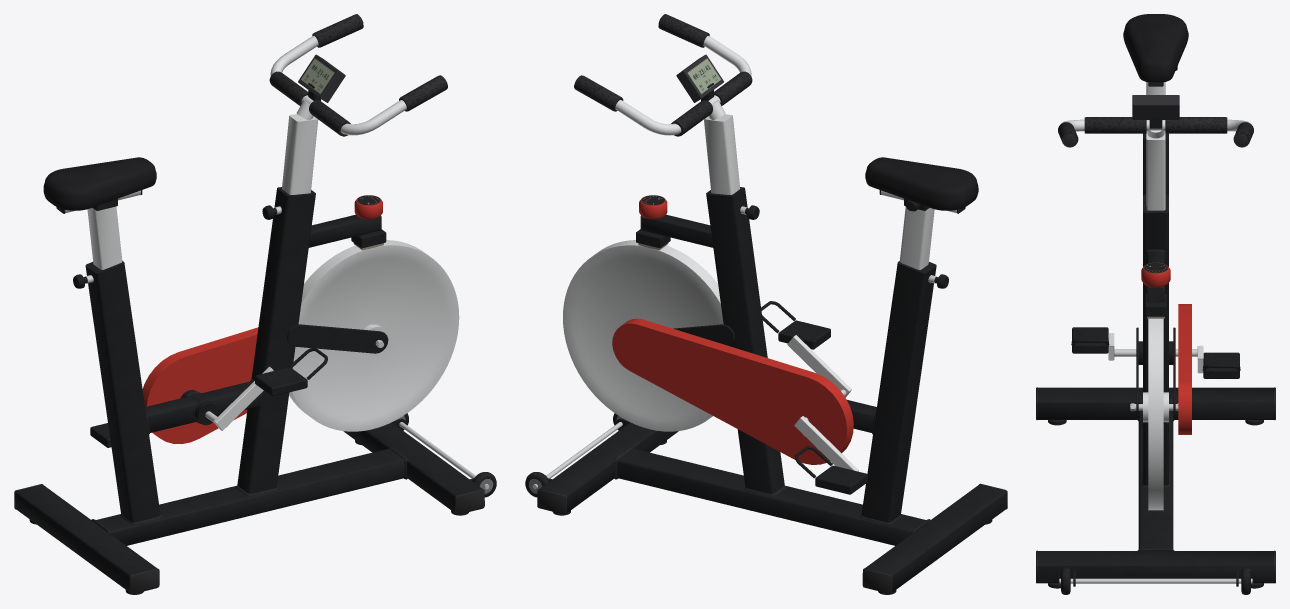
File: real_spin_bike.glb
3 renders of one model, left to right at view 1: azimuth 30°, elevation 25°; view 2: azimuth 150°, elevation 25°; view 3: azimuth 270°, elevation 25°, orthographic. The views are drawn at different scales.
Visible parts, largest first — view 1: Bottom bracket beam, Crank arm, Belt guard (red), Saddle (black vinyl), Handlebar centre grip (foam), Brake arm End cap, Console display, Brake screw, BB beam Weld, Console housing; view 2: Bottom bracket beam, Crank arm, Belt guard (red), Saddle (black vinyl), Handlebar centre grip (foam), Brake arm End cap, Console display, Console housing, Brake screw; view 3: Bottom bracket beam, Crank arm, Saddle (black vinyl), Handlebar centre grip (foam), Belt guard (red), Brake screw, Console housing, Brake arm End cap, Levelling foot, BB beam Weld.
Boxes of the visible parts, left/top/right/bottom form: Bottom bracket beam: left=15, top=83, right=482, bottom=592; Crank arm: left=65, top=36, right=459, bottom=431; Belt guard (red): left=142, top=195, right=382, bottom=443; Saddle (black vinyl): left=43, top=157, right=156, bottom=210; Handlebar centre grip (foam): left=269, top=14, right=447, bottom=136; Brake arm End cap: left=14, top=17, right=484, bottom=593; Console display: left=301, top=58, right=380, bottom=205; Brake screw: left=85, top=206, right=489, bottom=489; BB beam Weld: left=91, top=235, right=407, bottom=533; Console housing: left=298, top=54, right=345, bottom=102; Bottom bracket beam: left=540, top=83, right=1006, bottom=592; Crank arm: left=563, top=36, right=956, bottom=471; Belt guard (red): left=612, top=195, right=853, bottom=464; Saddle (black vinyl): left=865, top=157, right=978, bottom=210; Handlebar centre grip (foam): left=574, top=14, right=752, bottom=136; Brake arm End cap: left=537, top=16, right=1007, bottom=593; Console display: left=641, top=58, right=721, bottom=205; Console housing: left=676, top=54, right=723, bottom=102; Brake screw: left=532, top=206, right=936, bottom=489; Bottom bracket beam: left=1038, top=66, right=1273, bottom=586; Crank arm: left=1061, top=82, right=1250, bottom=510; Saddle (black vinyl): left=1123, top=14, right=1188, bottom=82; Handlebar centre grip (foam): left=1058, top=117, right=1253, bottom=147; Belt guard (red): left=1141, top=262, right=1191, bottom=434; Brake screw: left=1059, top=349, right=1252, bottom=583; Console housing: left=1132, top=95, right=1179, bottom=119; Brake arm End cap: left=1036, top=82, right=1275, bottom=583; Levelling foot: left=1048, top=420, right=1263, bottom=594; BB beam Weld: left=1137, top=249, right=1174, bottom=550.
Size of the model in its own units: 1.12 by 1.15 by 0.559.
Materials: 15 (6 with a texture image).
